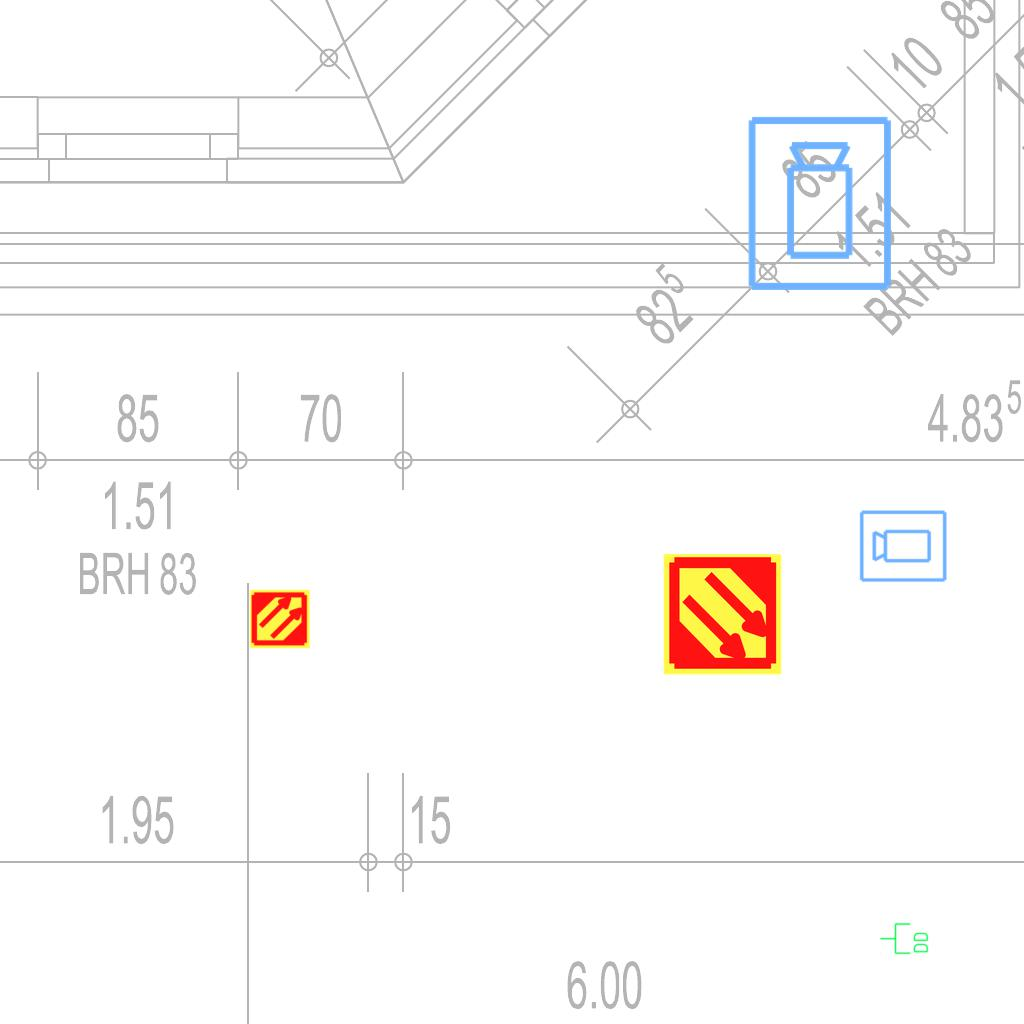ASR_Ansaugrauchmelder: (660, 552, 785, 677), (249, 588, 311, 650)
Datenanschluss_zweifach: (879, 922, 930, 956)
KFO_Kamera_mit_Festobjektiv: (744, 113, 898, 295), (858, 507, 949, 584)
